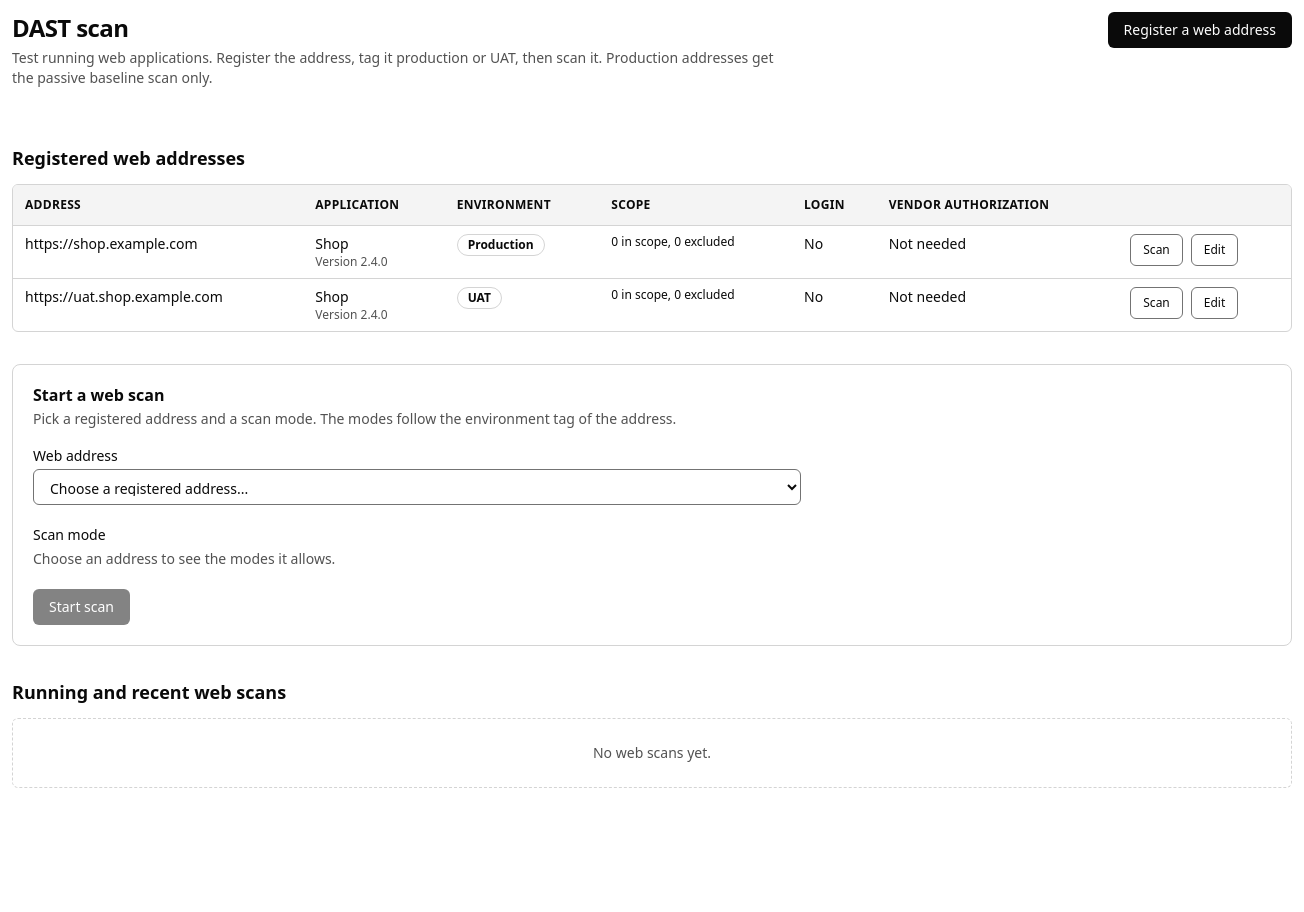
Test: DastPage scan form › keeps the start button disabled until a mode is chosen
This screenshot has width=1304, height=912.
Select "Shop - https://uat.shop.example.com (UAT)" in the dropdown labelled "Web address" at x=417, y=486, box top-left (33, 468), bottom-right (801, 504)
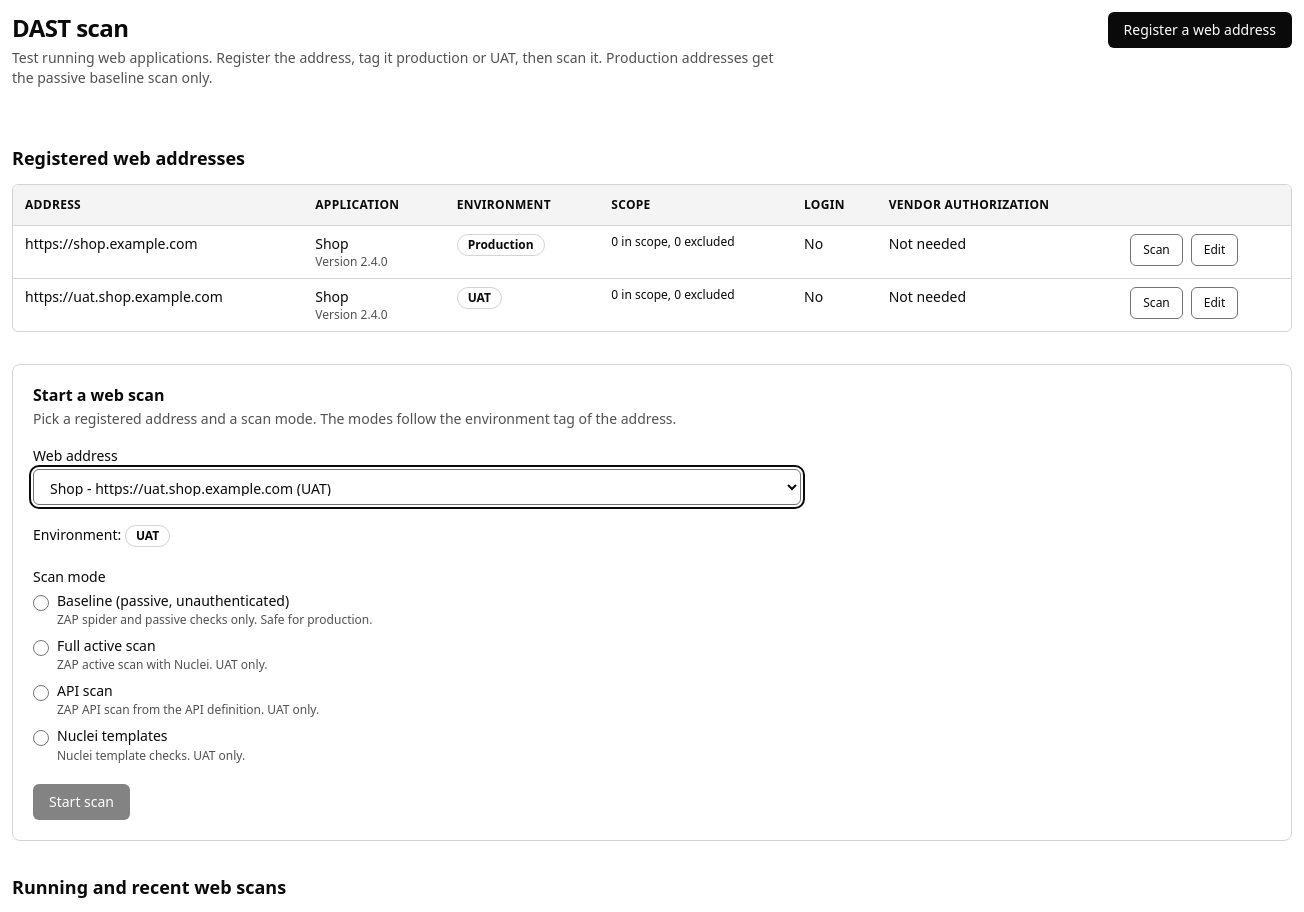
expect the button "Start scan" is disabled: met, box top-left (33, 784), bottom-right (130, 820)
Click the radio button labelled "Baseline (passive, unauthenticated)" at x=41, y=602, box top-left (33, 594), bottom-right (49, 610)
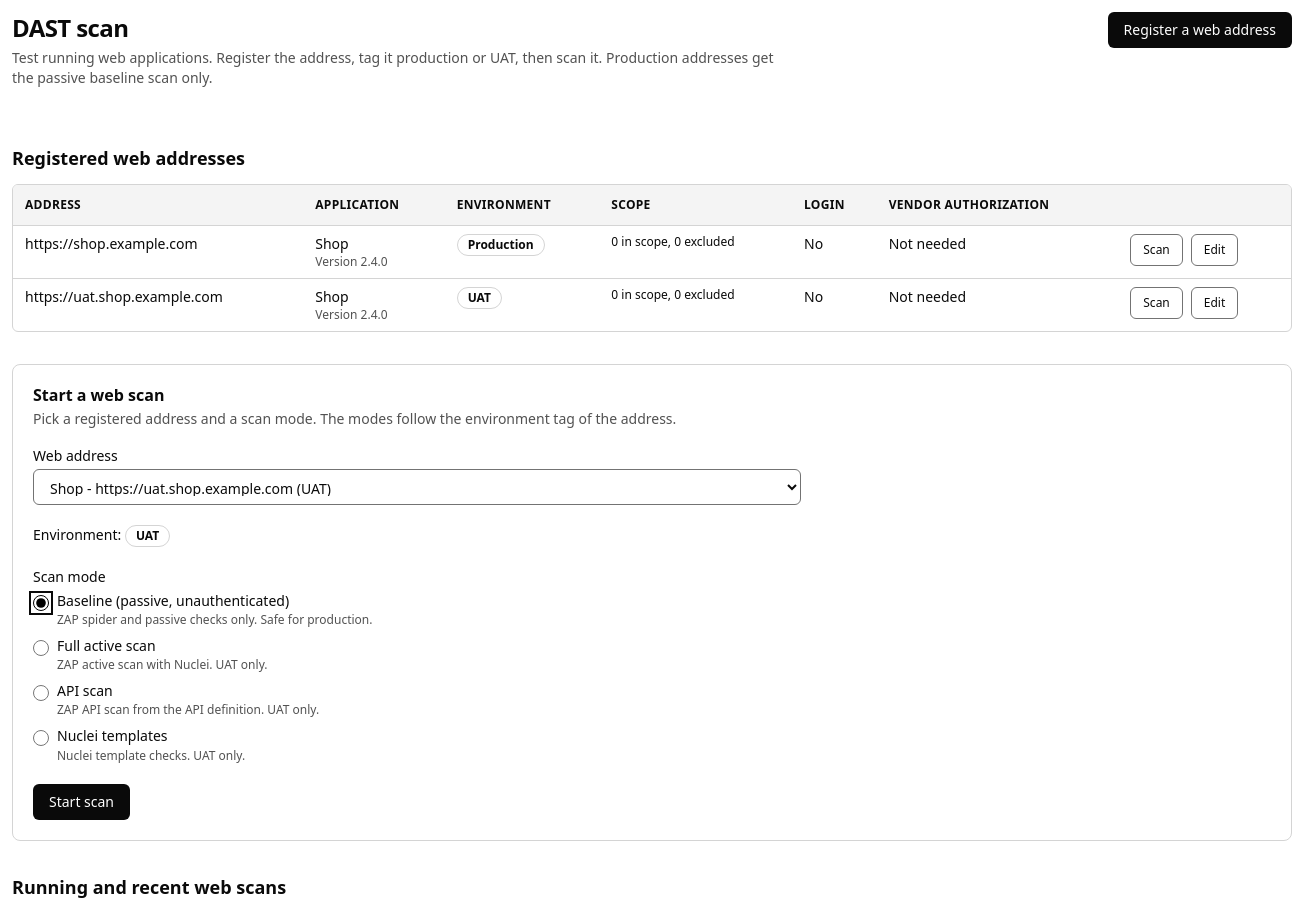
expect the button "Start scan" is enabled: met, box top-left (33, 784), bottom-right (130, 820)
